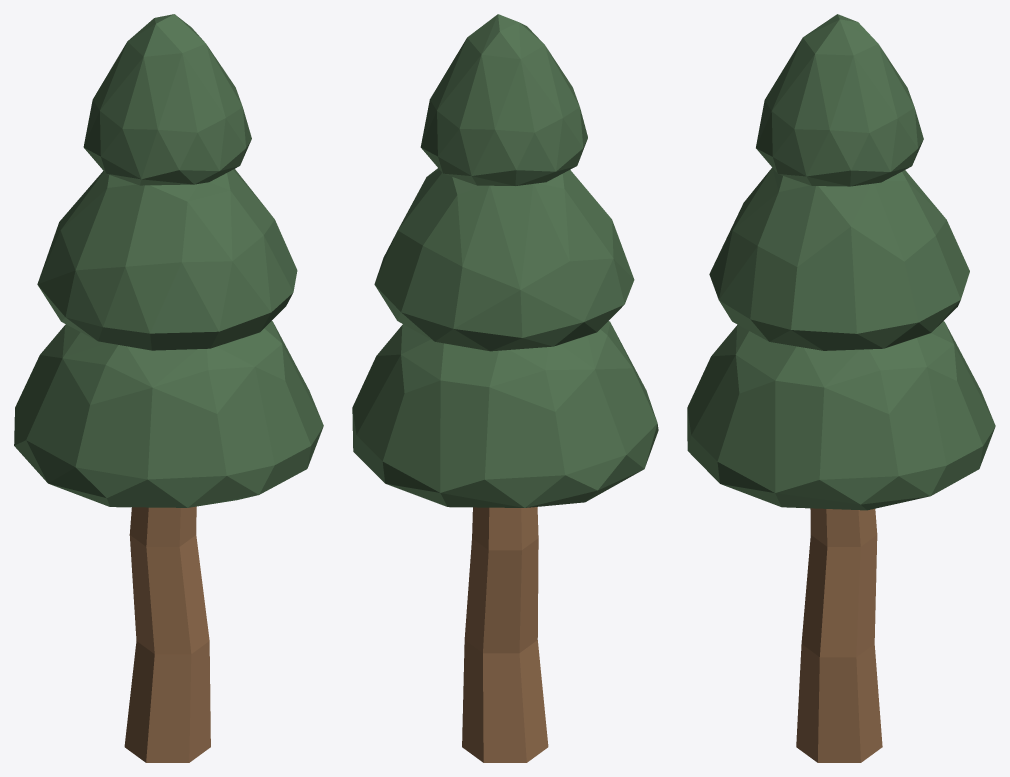
Rendered from Tree_Pine.fbx.
3 renders of one model, left to right at view 1: azimuth 30°, elevation 25°; view 2: azimuth 150°, elevation 25°; view 3: azimuth 270°, elevation 25°, orthographic.
Parts seen in each view (by area): view 1: Tree_Pine; view 2: Tree_Pine; view 3: Tree_Pine.
Part boxes in pixels (<box>): Tree_Pine: <box>14,14,323,762</box>; Tree_Pine: <box>352,14,658,762</box>; Tree_Pine: <box>687,14,995,762</box>.
Bounding box in the file's own units: 1.83 × 4.86 × 1.86.
